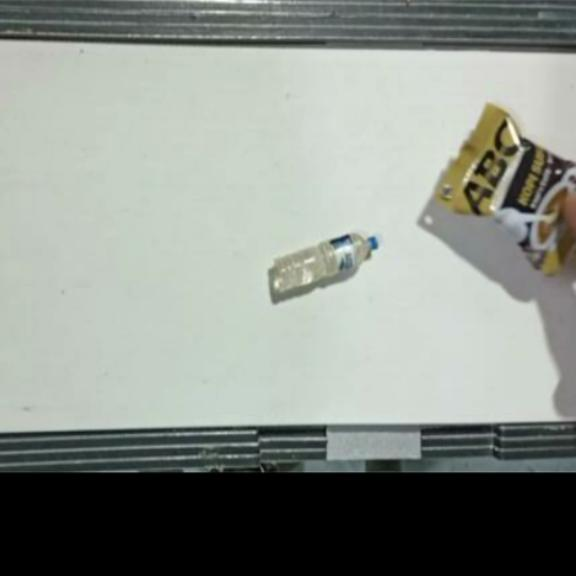Plastik: (434, 102, 576, 278), (274, 230, 378, 294)
